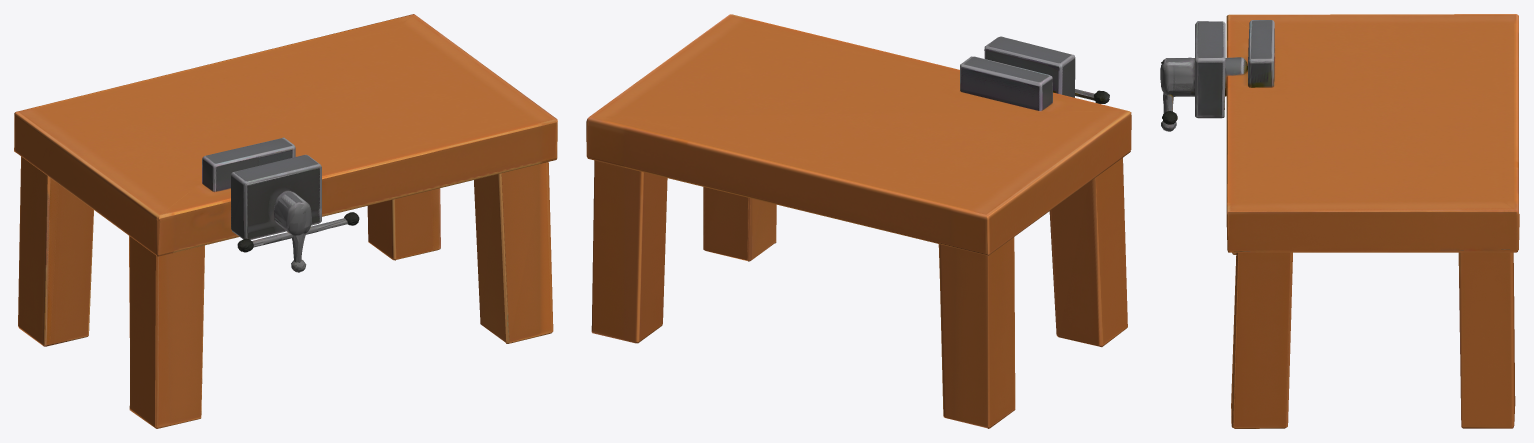
Rendered from workbench.glb.
The picture shows the model from 3 angles, left to right: view 1: azimuth 30°, elevation 25°; view 2: azimuth 150°, elevation 25°; view 3: azimuth 270°, elevation 25°; orthographic projection.
Size of the model in its own units: 1 by 0.582 by 0.7676.
Materials: 1 (1 with a texture image).
